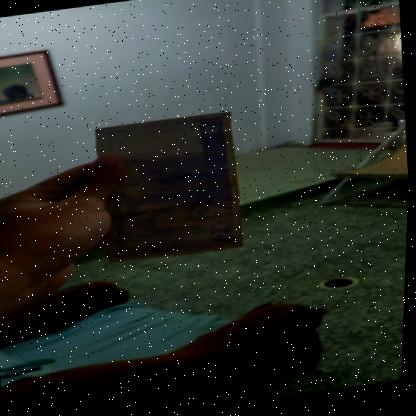vef_back: (91, 113, 250, 269)
